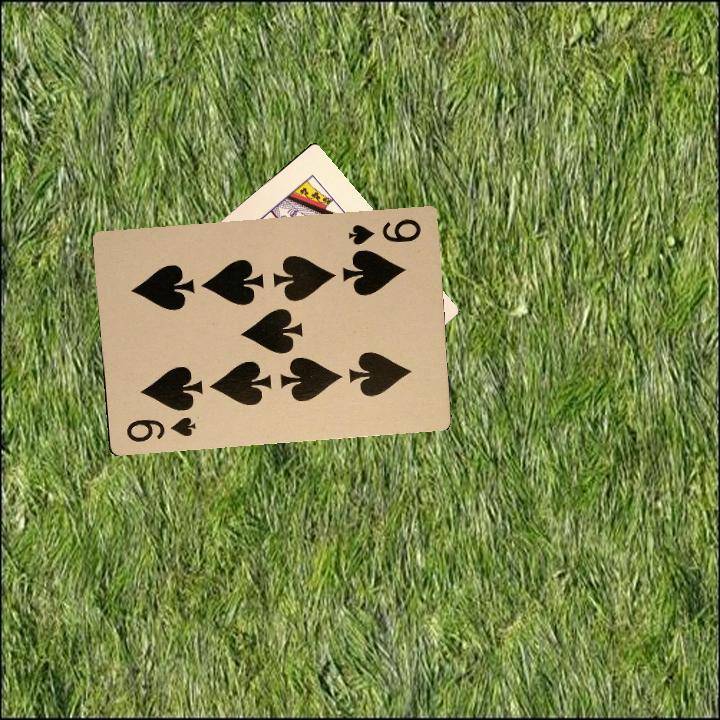9s: (344, 214, 423, 248), (122, 412, 199, 445)
